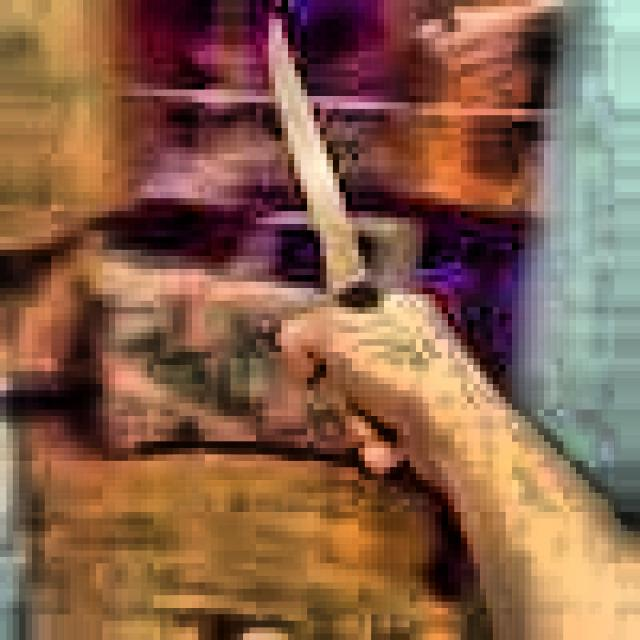knife: (273, 28, 415, 482)
